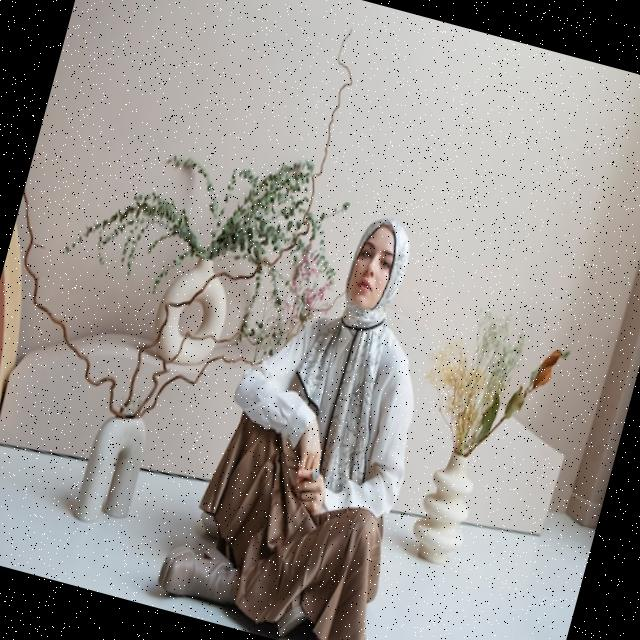Person: (151, 180, 489, 640)
